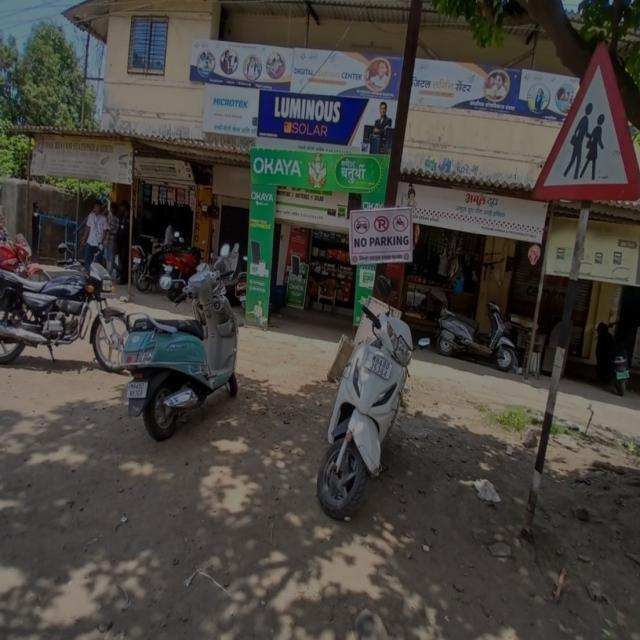illegalparking: (0, 197, 467, 551)
